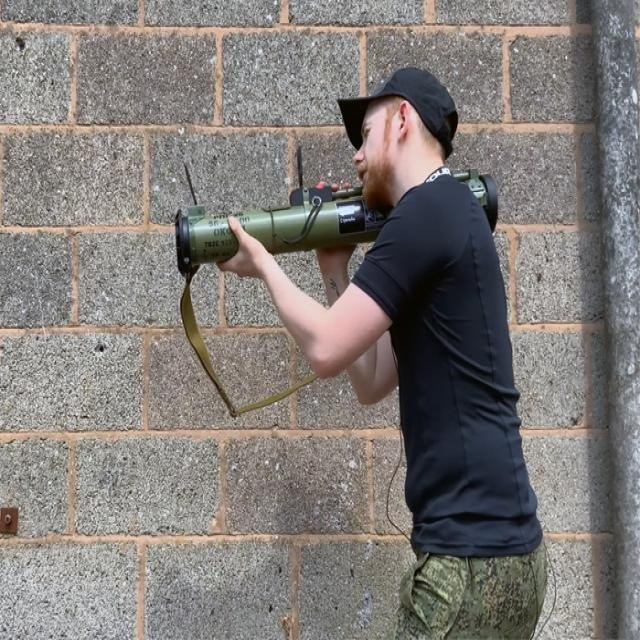bazooka: (152, 150, 509, 300)
